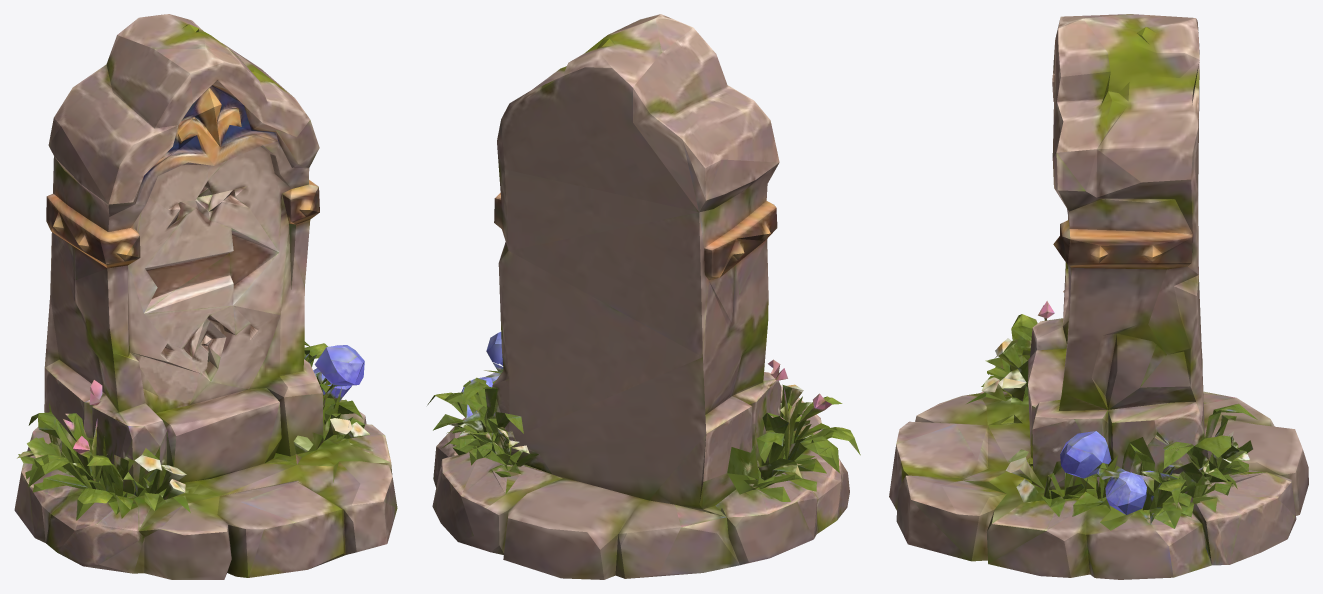
File: prop_milestone.glb
3 renders of one model, left to right at view 1: azimuth 30°, elevation 25°; view 2: azimuth 150°, elevation 25°; view 3: azimuth 270°, elevation 25°, orthographic. The views are drawn at different scales.
Visible parts, largest first — view 1: output_unwrapped; view 2: output_unwrapped; view 3: output_unwrapped.
Boxes of the visible parts, <box> form: output_unwrapped: <box>14,14,397,579</box>; output_unwrapped: <box>427,14,860,579</box>; output_unwrapped: <box>889,14,1308,579</box>.
Bounding box in the file's own units: 1.53 × 1.9 × 1.52.
Materials: 1 (1 with a texture image).
